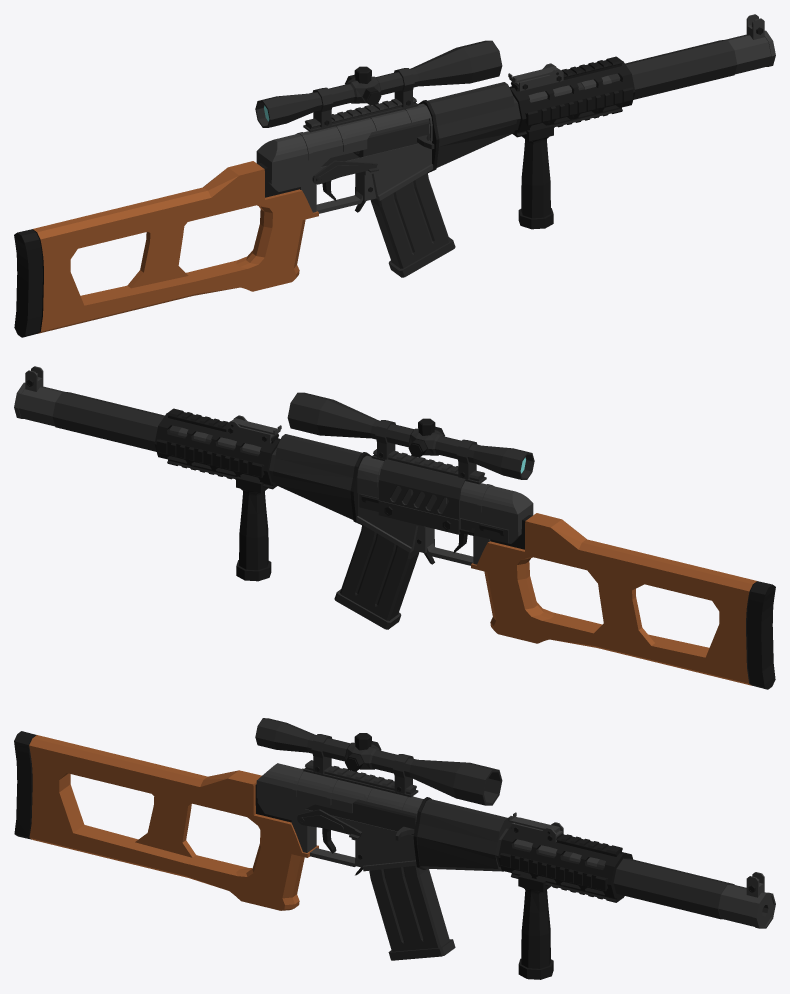
The model's file is Low Poly VSS Vintorez Custom.fbx.
3 renders of one model, top to bottom at view 1: azimuth 30°, elevation 25°; view 2: azimuth 150°, elevation 25°; view 3: azimuth 330°, elevation 25°, orthographic.
Parts seen in each view (by area): view 1: Cube, Cube.003, Cylinder.005, Cylinder.008, Cube.004, Cube.016, Cube.007, Cube.012, Cube.005, Cube.017; view 2: Cube, Cube.003, Cylinder.005, Cylinder.008, Cube.012, Cube.004, Cube.016, Cube.017; view 3: Cube, Cube.003, Cylinder.005, Cube.004, Cylinder.008, Cube.016, Cube.007, Cube.012, Cube.005, Cube.017.
Boxes of the visible parts, left/top/right/bottom form: Cube: left=14, top=161, right=318, bottom=337; Cube.003: left=256, top=14, right=775, bottom=213; Cylinder.005: left=255, top=40, right=502, bottom=127; Cylinder.008: left=509, top=56, right=635, bottom=137; Cube.004: left=370, top=173, right=455, bottom=277; Cube.016: left=518, top=124, right=553, bottom=229; Cube.007: left=353, top=118, right=434, bottom=157; Cube.012: left=303, top=97, right=418, bottom=132; Cube.005: left=312, top=160, right=378, bottom=184; Cube.017: left=511, top=63, right=563, bottom=91; Cube: left=471, top=513, right=775, bottom=689; Cube.003: left=14, top=366, right=533, bottom=565; Cylinder.005: left=287, top=392, right=534, bottom=479; Cylinder.008: left=154, top=408, right=280, bottom=489; Cube.012: left=371, top=449, right=486, bottom=534; Cube.004: left=334, top=525, right=419, bottom=629; Cube.016: left=236, top=476, right=271, bottom=581; Cube.017: left=226, top=415, right=278, bottom=443; Cube: left=14, top=731, right=318, bottom=910; Cube.003: left=256, top=763, right=775, bottom=928; Cylinder.005: left=255, top=718, right=502, bottom=805; Cube.004: left=369, top=865, right=455, bottom=960; Cylinder.008: left=498, top=826, right=632, bottom=902; Cube.016: left=518, top=875, right=553, bottom=979; Cube.007: left=350, top=799, right=416, bottom=840; Cube.012: left=303, top=760, right=418, bottom=797; Cube.005: left=297, top=809, right=361, bottom=839; Cube.017: left=511, top=817, right=563, bottom=842.
Bounding box in the file's own units: 1452 × 395 × 108.
